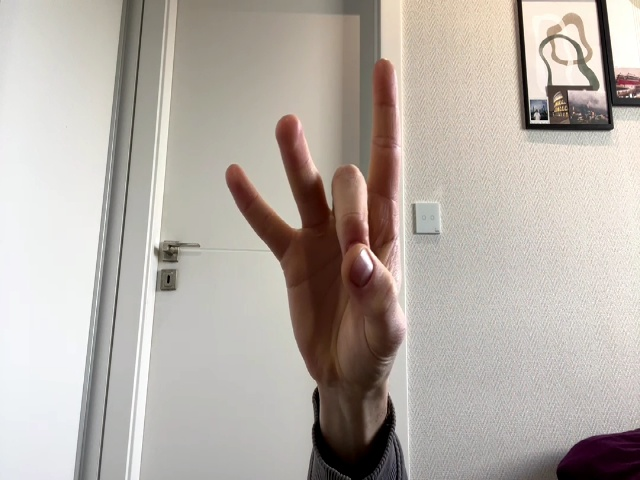G: (226, 59, 408, 383)
